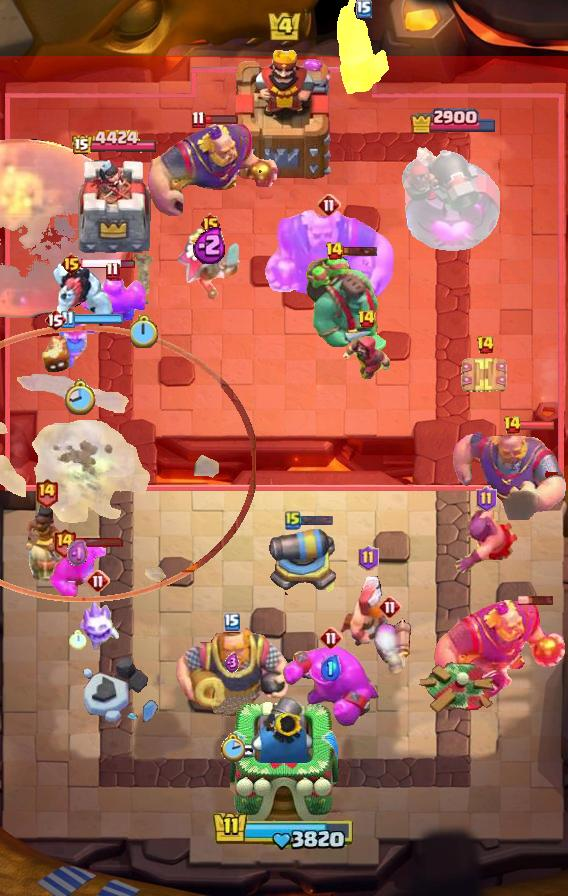bomber: (40, 336, 70, 374)
bowler: (340, 333, 392, 383)
clock: (212, 810, 356, 852)
clone: (281, 644, 381, 728)
electro-spirit: (192, 224, 227, 263), (67, 540, 90, 569), (321, 655, 341, 681), (225, 653, 239, 673)
elite-barbarian: (23, 503, 69, 583)
elixir: (65, 379, 97, 417), (130, 316, 158, 349), (220, 733, 245, 762), (69, 630, 87, 650)
emote: (81, 258, 136, 271), (74, 537, 124, 548), (72, 314, 123, 324), (517, 594, 555, 606), (342, 245, 379, 257), (203, 115, 239, 126), (519, 420, 555, 431), (298, 514, 334, 525)
firecracker: (336, 0, 392, 96)
fisherman: (131, 252, 157, 304)
giant-skeleton: (174, 622, 290, 722)
goblin-brawler: (460, 355, 510, 395)
hog-rider: (57, 316, 105, 370)
king-tower: (229, 43, 339, 181), (230, 692, 338, 826)
lava-hound: (303, 248, 389, 354)
lightning: (258, 207, 402, 321), (432, 599, 568, 699), (144, 123, 279, 223), (450, 430, 568, 520)
mighty-miner: (339, 576, 397, 648)
mirror: (76, 598, 120, 652)
monk: (453, 509, 519, 575)
mortar-evolution: (176, 227, 244, 301)
phoenix-egg: (0, 138, 131, 318)
queen-tower: (73, 160, 154, 257)
rage: (51, 262, 115, 328)
royal-ghost: (0, 326, 256, 602)
royal-recruit: (265, 525, 339, 595)
selected: (410, 106, 499, 134), (70, 129, 157, 157)
text: (34, 476, 59, 507), (51, 527, 76, 558), (317, 193, 341, 217), (86, 569, 110, 593), (378, 595, 402, 619), (319, 626, 343, 650), (198, 212, 221, 236), (61, 252, 84, 276), (476, 486, 497, 512), (357, 545, 378, 571), (44, 308, 66, 332), (324, 241, 343, 261), (356, 309, 375, 329), (477, 335, 496, 355), (502, 415, 521, 435), (285, 510, 301, 530), (356, 0, 372, 18), (224, 613, 240, 631), (191, 111, 206, 130), (60, 311, 75, 329), (105, 260, 119, 279)
tombstone: (368, 616, 412, 678)
tornado: (76, 275, 148, 325), (50, 544, 106, 602)
tower-bar: (402, 136, 504, 256)
